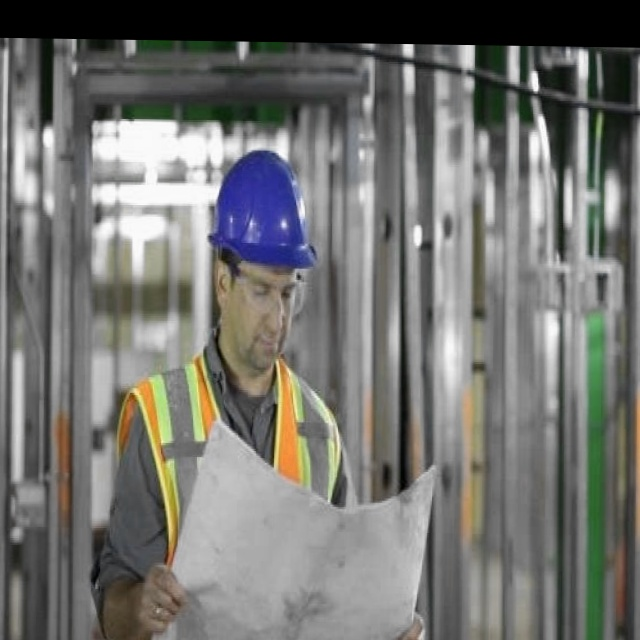Con_Casco: (208, 151, 314, 352)
